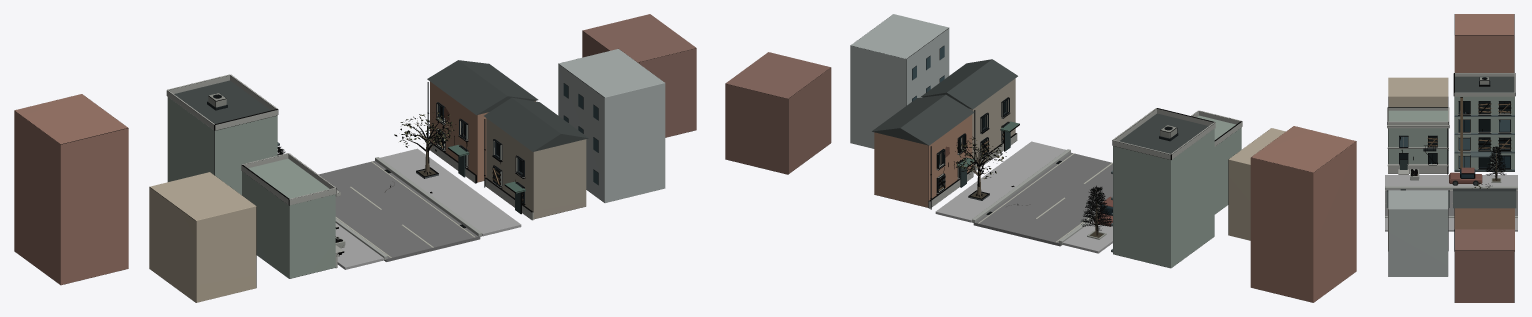
File: city_hd_21.glb
3 views of the same model, side by side, from view 1: azimuth 30°, elevation 25°; view 2: azimuth 150°, elevation 25°; view 3: azimuth 270°, elevation 25° (orthographic). The views are drawn at different scales.
Visible parts, largest first — view 1: Background city building, CITY_PBR_asphalt, CITY_PBR_pavement, CITY_curb; view 2: Background city building, CITY_PBR_asphalt, CITY_PBR_pavement, CITY_curb; view 3: Background city building, CITY_PBR_pavement, CITY_curb, CITY_PBR_asphalt, CITY_car_paint.
Part boxes in pixels (x1,y1,x2,y2): Background city building: (14,14,696,302); CITY_PBR_asphalt: (319,161,480,261); CITY_PBR_pavement: (335,148,521,269); CITY_curb: (335,157,481,260); Background city building: (725,14,1356,302); CITY_PBR_asphalt: (973,152,1112,246); CITY_PBR_pavement: (935,141,1112,253); CITY_curb: (972,149,1099,244); Background city building: (1386,14,1516,302); CITY_PBR_pavement: (1385,175,1517,231); CITY_curb: (1385,186,1517,217); CITY_PBR_asphalt: (1385,189,1517,215); CITY_car_paint: (1449,167,1482,183).
Bounding box in the file's own units: 56.65 × 12.26 × 16.
Materials: 12 (1 with a texture image).
